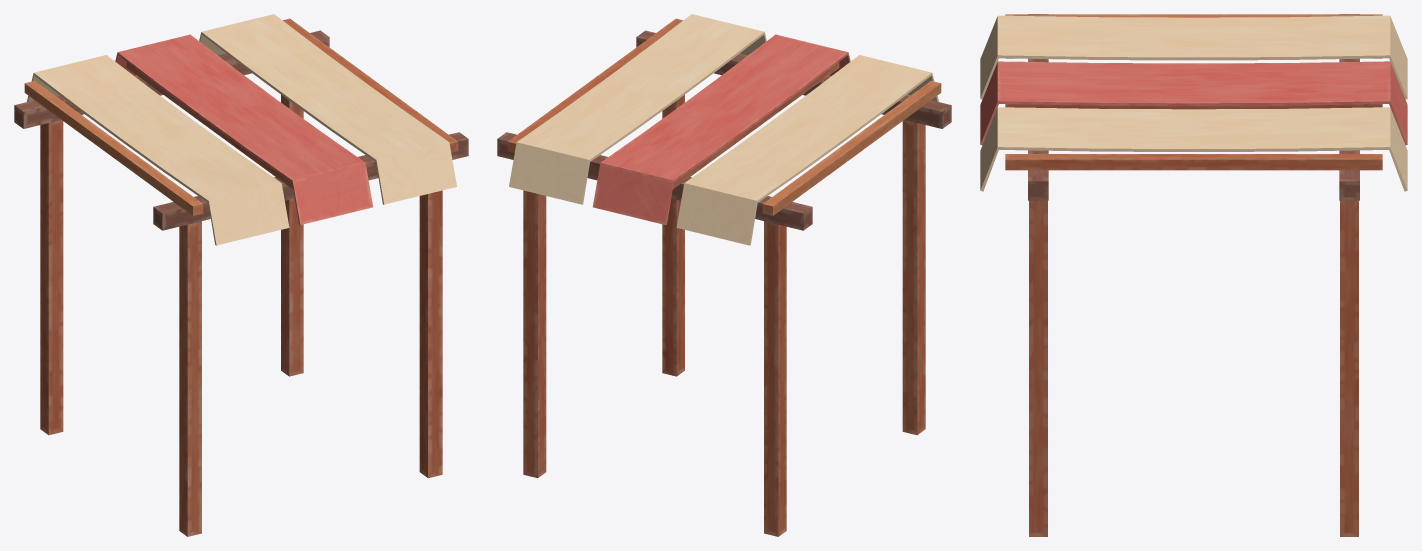
File: pergola_low.fbx
3 renders of one model, left to right at view 1: azimuth 30°, elevation 25°; view 2: azimuth 150°, elevation 25°; view 3: azimuth 270°, elevation 25°, orthographic. The views are drawn at different scales.
Visible parts, largest first — view 1: pergola; view 2: pergola; view 3: pergola.
Boxes of the visible parts, left/top/right/bottom form: pergola: left=14, top=14, right=468, bottom=536; pergola: left=497, top=14, right=951, bottom=536; pergola: left=980, top=14, right=1407, bottom=536.
Bounding box in the file's own units: 8.4 × 9.03 × 9.07.
1 material, 1 textured.
